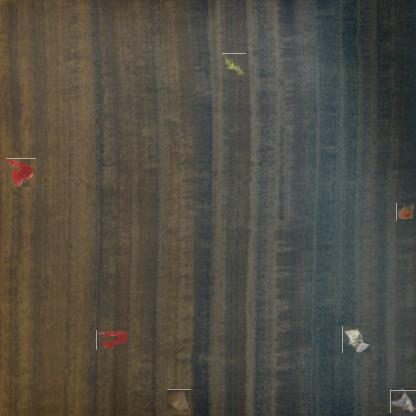dirty: (343, 325, 371, 354), (390, 388, 416, 414), (167, 390, 192, 416), (222, 53, 246, 76), (396, 203, 415, 221)
liquid: (6, 158, 36, 187), (96, 330, 129, 350)
